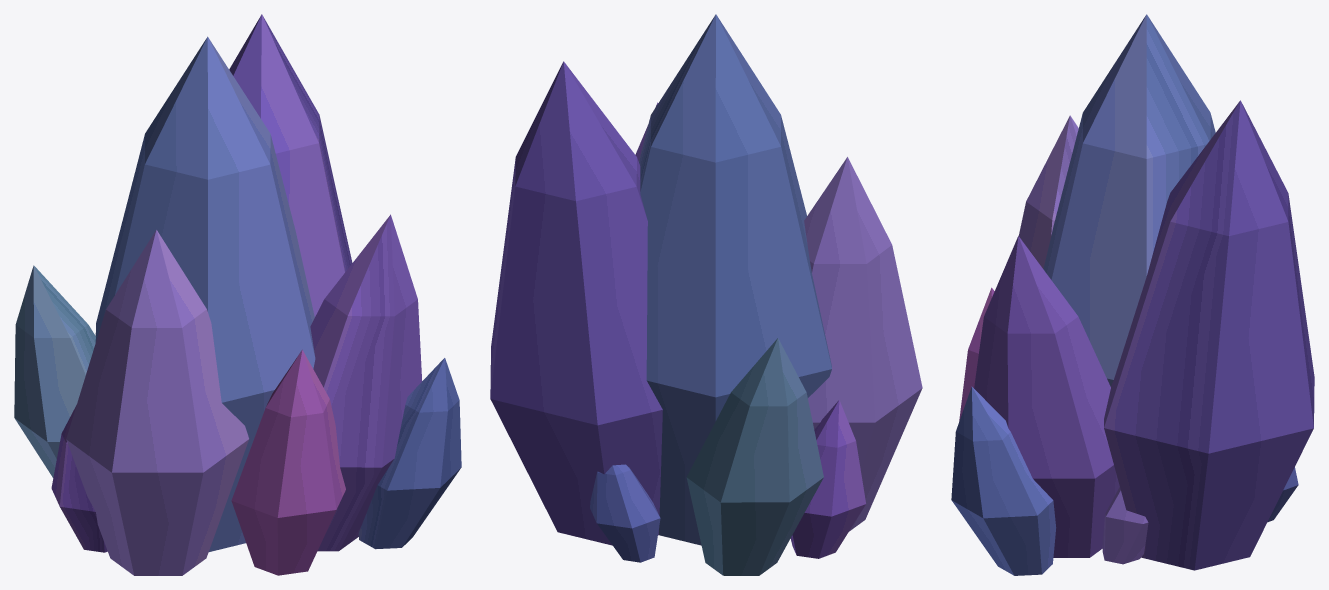
Rendered from crystal_cluster.obj.
3 views of the same model, side by side, from view 1: azimuth 30°, elevation 25°; view 2: azimuth 150°, elevation 25°; view 3: azimuth 270°, elevation 25° (orthographic). The views are drawn at different scales.
Parts seen in each view (by area): view 1: crystal; view 2: crystal; view 3: crystal.
Boxes of the visible parts, box(x1,y1,x2,y2) form: crystal: box(14, 14, 461, 575); crystal: box(490, 14, 922, 575); crystal: box(951, 14, 1314, 575).
Bounding box in the file's own units: 0.611 × 0.852 × 0.569.
